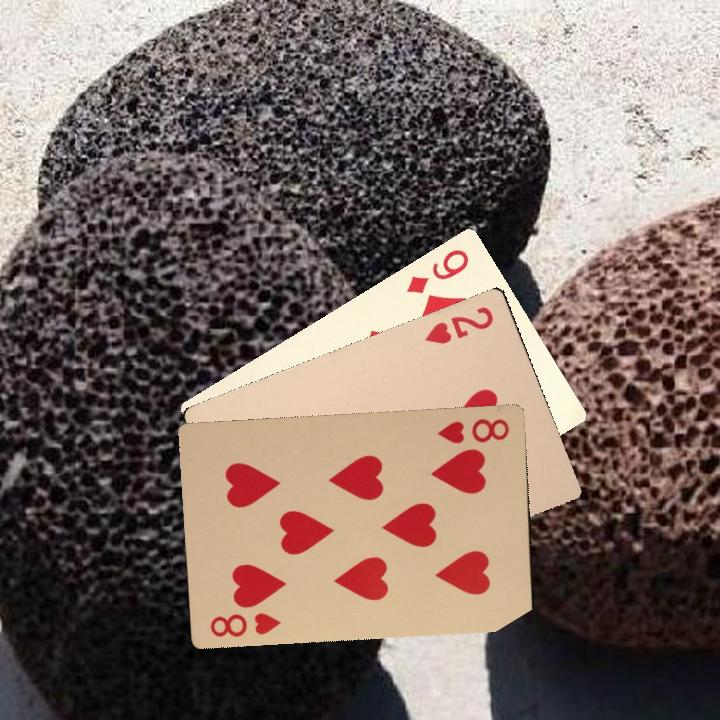2h: (421, 302, 496, 347)
8h: (433, 415, 512, 446), (206, 609, 282, 639)
9d: (402, 245, 472, 297)
